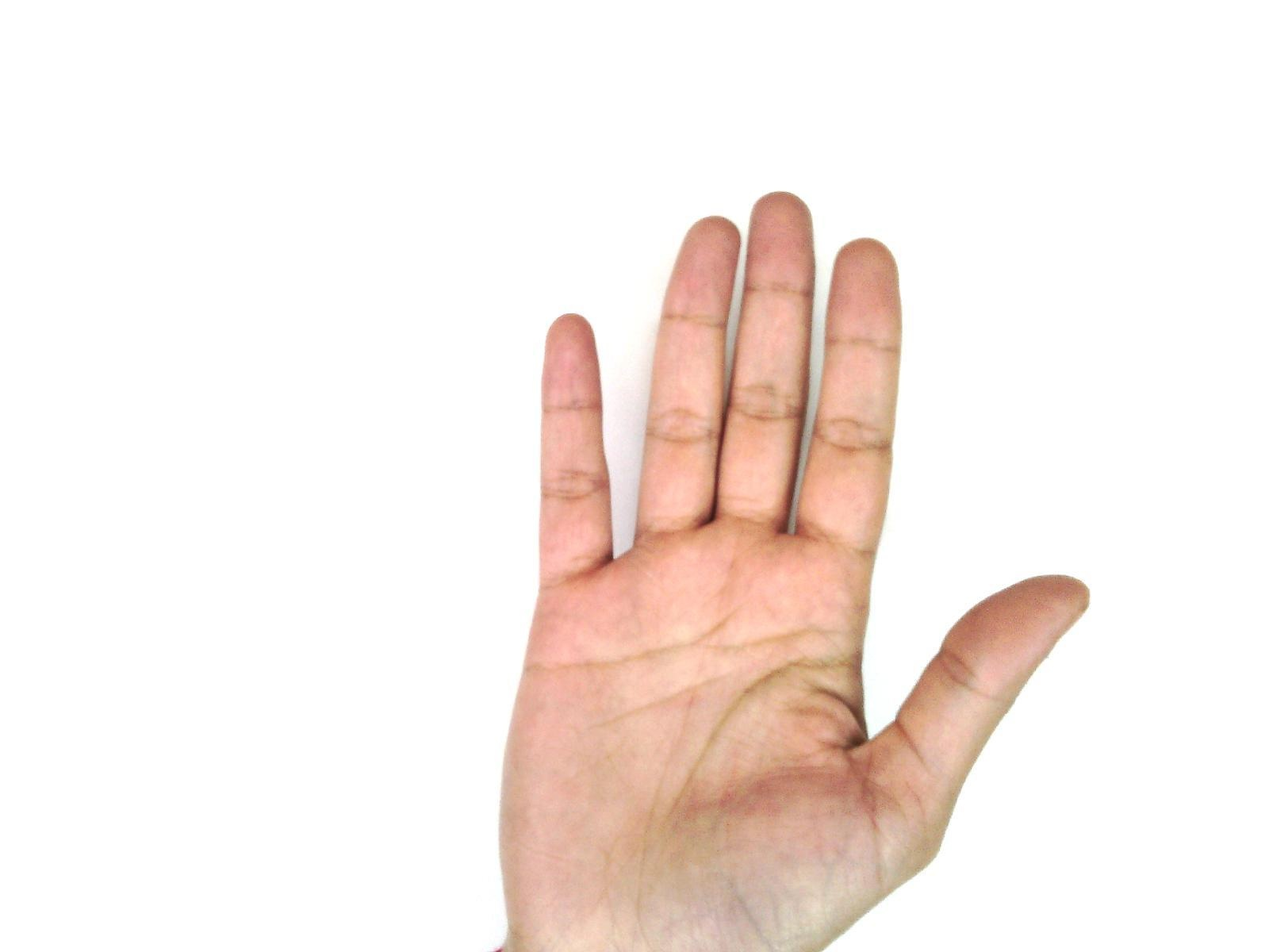open_palm: (493, 190, 1092, 952)
